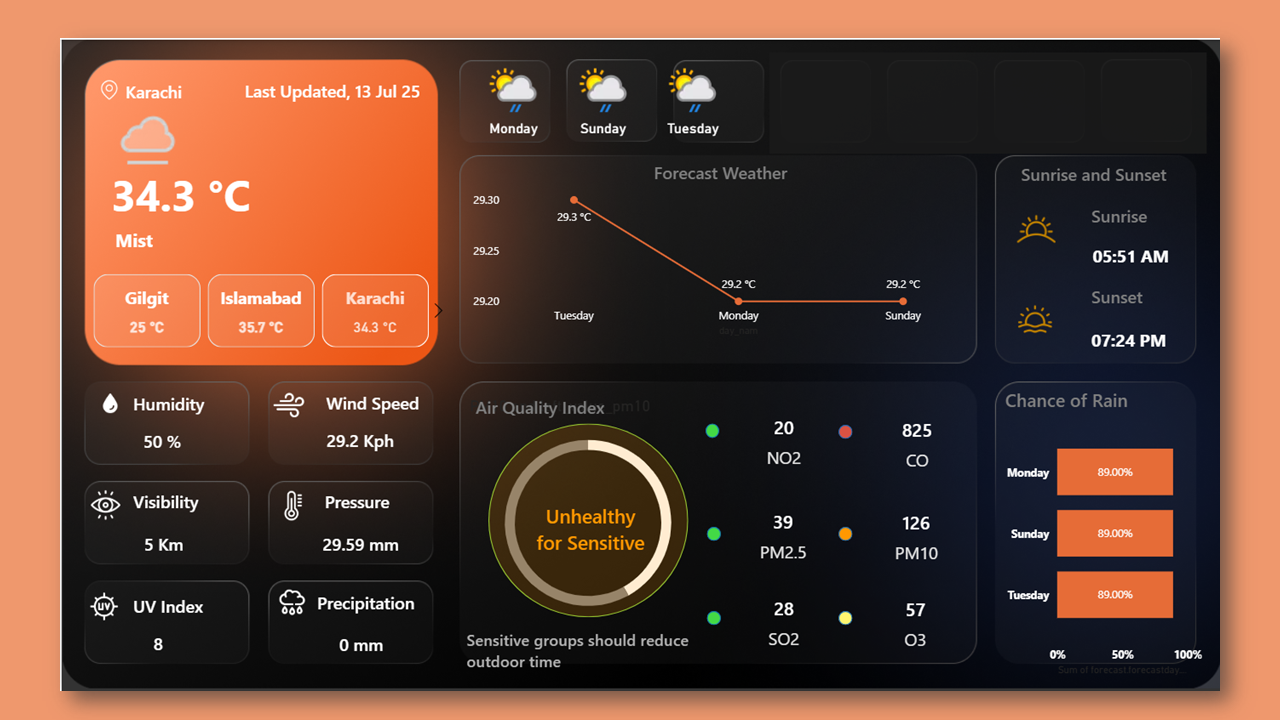

This screenshot's page, from the dashboard's own definition file:
{"tool":"powerbi","page":{"name":"Live Weather ","canvas":[1280,720],"ordinal":0},"visuals":[{"type":"advancedSlicerVisual","fields":{"Values":["Location.location.name"]},"box":[9.6,254,421.8,91.1],"z":0},{"type":"shape","box":[54.3,129.4,166.2,81.5],"z":1000},{"type":"shape","box":[59.1,199.7,289.2,43.1],"z":2000},{"type":"shape","box":[70.3,35.1,102.3,43.1],"z":3000},{"type":"shape","box":[183.7,27.2,212.5,59.1],"z":4000},{"type":"image","box":[33.6,39.9,36.7,32],"z":5000},{"type":"cardVisual","fields":{"Data":["Min(Current.current.condition.icon)"]},"box":[35.1,44.7,150.2,103.8],"z":6000},{"type":"image","box":[35.1,385,36.7,33.6],"z":7000},{"type":"image","box":[220.5,380.2,60.7,46.3],"z":8000},{"type":"image","box":[230.1,493.7,51.1,43.1],"z":9000},{"type":"image","box":[27.2,492.1,43.1,44.7],"z":10000},{"type":"image","box":[20.8,605.5,51.1,43.1],"z":11000},{"type":"image","box":[226.9,599.1,54.3,44.7],"z":12000},{"type":"shape","box":[78.3,372.3,105.4,59.1],"z":13000},{"type":"shape","box":[291.6,371.4,126.4,60.3],"z":14000},{"type":"shape","box":[78.3,484.1,84.7,52.7],"z":15000},{"type":"shape","box":[290.8,484.1,95.9,52.7],"z":16000},{"type":"shape","box":[281.8,595.1,126,54.3],"z":17000},{"type":"shape","box":[78.8,598.6,96.3,54.3],"z":18000},{"type":"card","fields":{"Values":["_Measures.Wind_speed"]},"box":[260.8,418.3,136.5,52.5],"z":19000},{"type":"card","fields":{"Values":["_Measures.Humidity"]},"box":[27.2,418.6,167.8,52.7],"z":20000},{"type":"card","fields":{"Values":["_Measures.Visibility"]},"box":[35,537.3,154,43.8],"z":21000},{"type":"card","fields":{"Values":["_Measures.Pressure"]},"box":[250.3,537.3,157.5,43.8],"z":22000},{"type":"card","fields":{"Values":["Sum(Current.current.uv)"]},"box":[28,647.6,155.8,43.8],"z":23000},{"type":"card","fields":{"Values":["_Measures.pre"]},"box":[252.9,648.1,156,43.9],"z":24000},{"type":"shape","box":[1059.3,118.2,180.5,59.1],"z":25000},{"type":"group","id":"g1","title":"Group 1","box":[1135.9,167.8,126.2,191.7],"z":26000},{"type":"image","box":[1041.7,174.1,67.1,68.7],"z":27000},{"type":"shape","box":[1137.5,210.9,124.6,54.3],"z":28000,"group":"g1"},{"type":"image","box":[1035.3,284.4,78.3,47.9],"z":28000},{"type":"shape","box":[1135.9,305.2,124.6,54.3],"z":29000,"group":"g1"},{"type":"hundredPercentStackedBarChart","title":"Chance of Rain","fields":{"Y":["Sum(Forecast.forecast.forecastday.day.daily_chance_of_rain)","_Measures.left value"],"Category":["Forecast_day.day_nam"]},"box":[1036.5,385.1,226.7,322.1],"z":29000},{"type":"shape","box":[1135.9,167.8,124.6,54.3],"z":30000,"group":"g1"},{"type":"card","fields":{"Values":["Sum(Current.current.air_quality.co)"]},"box":[882.7,406.4,122.5,77.8],"z":30000},{"type":"shape","box":[1135.9,262.1,126.2,43.1],"z":31000,"group":"g1"},{"type":"card","fields":{"Values":["Sum(Current.current.air_quality.pm10)"]},"box":[882.7,507.5,120.5,79.7],"z":31000},{"type":"card","fields":{"Values":["Sum(Current.current.air_quality.o3)"]},"box":[882.7,604.7,118.6,77.8],"z":32000},{"type":"card","fields":{"Values":["Sum(Current.current.air_quality.no2)"]},"box":[736.5,402.6,121.4,78.3],"z":33000},{"type":"card","fields":{"Values":["Sum(Current.current.air_quality.pm2_5)"]},"box":[736.5,508.1,119.8,78.3],"z":34000},{"type":"card","fields":{"Values":["Sum(Current.current.air_quality.so2)"]},"box":[736.5,603.9,121.4,78.3],"z":35000},{"type":"shape","box":[711,425,15,16],"z":36000},{"type":"shape","box":[711.6,538.6,15.6,15.6],"z":37000},{"type":"shape","box":[711.6,631.9,15.6,15.6],"z":38000},{"type":"shape","box":[857.4,425.8,15.6,15.6],"z":39000},{"type":"shape","box":[857.4,538.6,15.6,15.6],"z":40000},{"type":"shape","box":[857.4,631.9,15.6,15.6],"z":41000},{"type":"card","fields":{"Values":["Sum(Current.current.air_quality.pm10)"]},"box":[519.2,511.3,129.4,68.7],"z":42000},{"type":"donutChart","fields":{"Y":["Sum(Current.current.air_quality.pm10)","_Measures.LEFT_VALUE_PM10"]},"box":[445.7,394.6,270,258.8],"z":43000},{"type":"shape","box":[471.3,425,220.5,214.1],"z":44000},{"type":"shape","box":[456.9,380.2,231.7,49.5],"z":45000},{"type":"shape","box":[447.3,648.7,263.6,52.7],"z":46000},{"type":"lineChart","title":"Forecast Weather","fields":{"Y":["Sum(Forecast_day.forecast.forecastday.day.avgtemp_c)"],"Category":["Forecast_day.day_nam"]},"box":[448.9,134.2,557.6,198.1],"z":47000},{"type":"advancedSlicerVisual","fields":{"Values":["Forecast_day.day_nam"]},"box":[448.9,17.6,399.4,108.6],"z":48000},{"type":"shape","box":[781.3,14.4,482.5,111.8],"z":48500}]}

Visuals, with their boxes in screenshot pixels (x1, y1, x2, y2), scaled from the page's 1280x720 canvas onto the 1280x720 screenshot:
advancedSlicerVisual - Location.location.name: <bbox>10, 254, 431, 345</bbox>
shape: <bbox>54, 129, 220, 211</bbox>
shape: <bbox>59, 200, 348, 243</bbox>
shape: <bbox>70, 35, 173, 78</bbox>
shape: <bbox>184, 27, 396, 86</bbox>
image: <bbox>34, 40, 70, 72</bbox>
cardVisual - Min(Current.current.condition.icon): <bbox>35, 45, 185, 148</bbox>
image: <bbox>35, 385, 72, 419</bbox>
image: <bbox>220, 380, 281, 426</bbox>
image: <bbox>230, 494, 281, 537</bbox>
image: <bbox>27, 492, 70, 537</bbox>
image: <bbox>21, 606, 72, 649</bbox>
image: <bbox>227, 599, 281, 644</bbox>
shape: <bbox>78, 372, 184, 431</bbox>
shape: <bbox>292, 371, 418, 432</bbox>
shape: <bbox>78, 484, 163, 537</bbox>
shape: <bbox>291, 484, 387, 537</bbox>
shape: <bbox>282, 595, 408, 649</bbox>
shape: <bbox>79, 599, 175, 653</bbox>
card - _Measures.Wind_speed: <bbox>261, 418, 397, 471</bbox>
card - _Measures.Humidity: <bbox>27, 419, 195, 471</bbox>
card - _Measures.Visibility: <bbox>35, 537, 189, 581</bbox>
card - _Measures.Pressure: <bbox>250, 537, 408, 581</bbox>
card - Sum(Current.current.uv): <bbox>28, 648, 184, 691</bbox>
card - _Measures.pre: <bbox>253, 648, 409, 692</bbox>
shape: <bbox>1059, 118, 1240, 177</bbox>
"Group 1" group: <bbox>1136, 168, 1262, 360</bbox>
image: <bbox>1042, 174, 1109, 243</bbox>
shape: <bbox>1138, 211, 1262, 265</bbox>
image: <bbox>1035, 284, 1114, 332</bbox>
shape: <bbox>1136, 305, 1260, 360</bbox>
"Chance of Rain" hundredPercentStackedBarChart: <bbox>1036, 385, 1263, 707</bbox>
shape: <bbox>1136, 168, 1260, 222</bbox>
card - Sum(Current.current.air_quality.co): <bbox>883, 406, 1005, 484</bbox>
shape: <bbox>1136, 262, 1262, 305</bbox>
card - Sum(Current.current.air_quality.pm10): <bbox>883, 508, 1003, 587</bbox>
card - Sum(Current.current.air_quality.o3): <bbox>883, 605, 1001, 682</bbox>
card - Sum(Current.current.air_quality.no2): <bbox>736, 403, 858, 481</bbox>
card - Sum(Current.current.air_quality.pm2_5): <bbox>736, 508, 856, 586</bbox>
card - Sum(Current.current.air_quality.so2): <bbox>736, 604, 858, 682</bbox>
shape: <bbox>711, 425, 726, 441</bbox>
shape: <bbox>712, 539, 727, 554</bbox>
shape: <bbox>712, 632, 727, 648</bbox>
shape: <bbox>857, 426, 873, 441</bbox>
shape: <bbox>857, 539, 873, 554</bbox>
shape: <bbox>857, 632, 873, 648</bbox>
card - Sum(Current.current.air_quality.pm10): <bbox>519, 511, 649, 580</bbox>
donutChart - Sum(Current.current.air_quality.pm10) x _Measures.LEFT_VALUE_PM10: <bbox>446, 395, 716, 653</bbox>
shape: <bbox>471, 425, 692, 639</bbox>
shape: <bbox>457, 380, 689, 430</bbox>
shape: <bbox>447, 649, 711, 701</bbox>
"Forecast Weather" lineChart: <bbox>449, 134, 1006, 332</bbox>
advancedSlicerVisual - Forecast_day.day_nam: <bbox>449, 18, 848, 126</bbox>
shape: <bbox>781, 14, 1264, 126</bbox>
